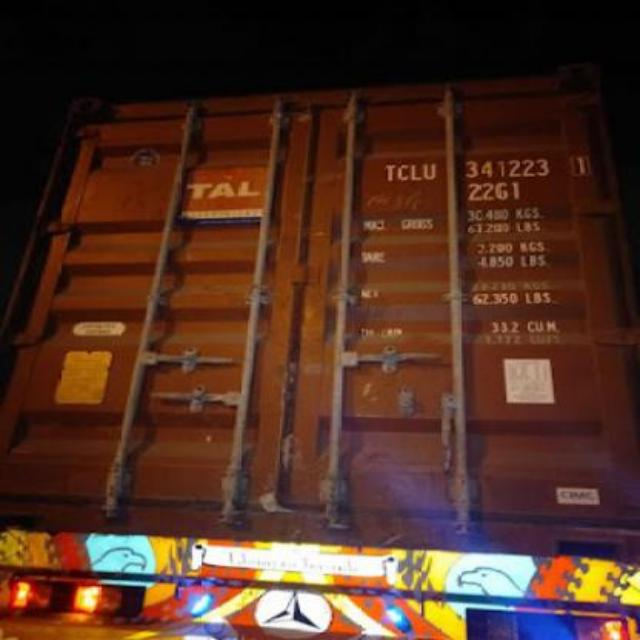1: (572, 156, 588, 174), (496, 158, 508, 178)
2: (522, 156, 536, 180), (506, 159, 524, 177)
3: (534, 157, 554, 177), (464, 158, 478, 180)
4: (478, 156, 496, 178)
C: (396, 160, 409, 182)
L: (411, 162, 424, 182)
T: (382, 162, 398, 186)
U: (422, 160, 438, 182)
